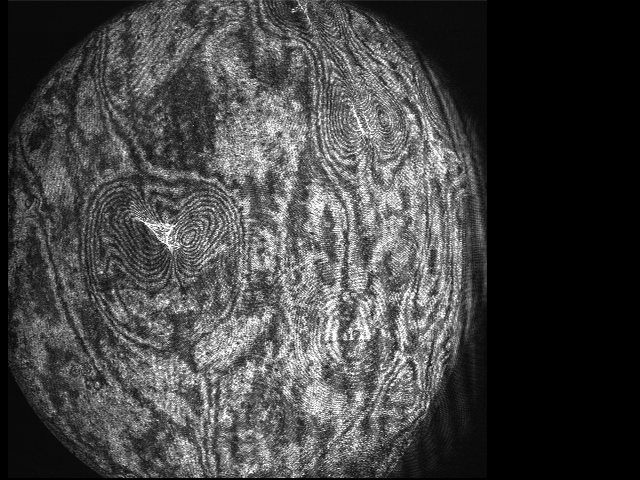plume: (84, 180, 242, 289)
